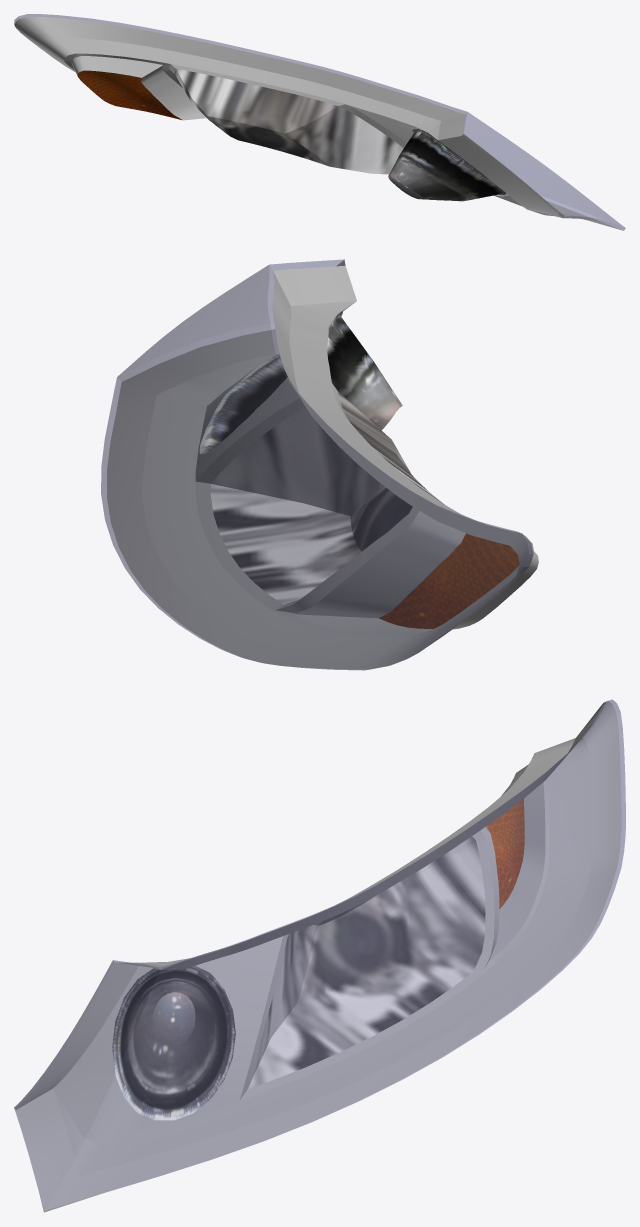
3 renders of one model, top to bottom at view 1: azimuth 30°, elevation 25°; view 2: azimuth 150°, elevation 25°; view 3: azimuth 270°, elevation 25°, orthographic. The views are drawn at different scales.
Parts seen in each view (by area): view 1: H030_061B_L_H030_061B_L_6_DaS, H030_061B_L_H030_061B_L_2_N, H030_061B_L_H030_061B_L_5_DTaSI, H030_061B_L_H030_061B_L_3_N, H030_061B_L_1_N_H030_061B_L; view 2: H030_061B_L_H030_061B_L_5_DTaSI, H030_061B_L_H030_061B_L_6_DaS, H030_061B_L_H030_061B_L_2_N, H030_061B_L_H030_061B_L_3_N, H030_061B_L_1_N_H030_061B_L; view 3: H030_061B_L_H030_061B_L_5_DTaSI, H030_061B_L_H030_061B_L_6_DaS, H030_061B_L_H030_061B_L_2_N, H030_061B_L_H030_061B_L_3_N, H030_061B_L_1_N_H030_061B_L.
Boxes of the visible parts, x1=… form: H030_061B_L_H030_061B_L_6_DaS: x1=15, y1=17, x2=621, y2=230; H030_061B_L_H030_061B_L_2_N: x1=174, y1=68, x2=403, y2=174; H030_061B_L_H030_061B_L_5_DTaSI: x1=14, y1=14, x2=625, y2=230; H030_061B_L_H030_061B_L_3_N: x1=388, y1=129, x2=508, y2=201; H030_061B_L_1_N_H030_061B_L: x1=77, y1=70, x2=182, y2=120; H030_061B_L_H030_061B_L_5_DTaSI: x1=101, y1=259, x2=532, y2=670; H030_061B_L_H030_061B_L_6_DaS: x1=107, y1=259, x2=538, y2=669; H030_061B_L_H030_061B_L_2_N: x1=210, y1=392, x2=444, y2=604; H030_061B_L_H030_061B_L_3_N: x1=199, y1=311, x2=402, y2=454; H030_061B_L_1_N_H030_061B_L: x1=379, y1=533, x2=519, y2=628; H030_061B_L_H030_061B_L_5_DTaSI: x1=14, y1=699, x2=625, y2=1212; H030_061B_L_H030_061B_L_6_DaS: x1=14, y1=701, x2=621, y2=1212; H030_061B_L_H030_061B_L_2_N: x1=248, y1=836, x2=485, y2=1088; H030_061B_L_H030_061B_L_3_N: x1=112, y1=966, x2=235, y2=1120; H030_061B_L_1_N_H030_061B_L: x1=487, y1=799, x2=524, y2=908.
Size of the model in its own units: 56.95 by 22.34 by 52.18.
